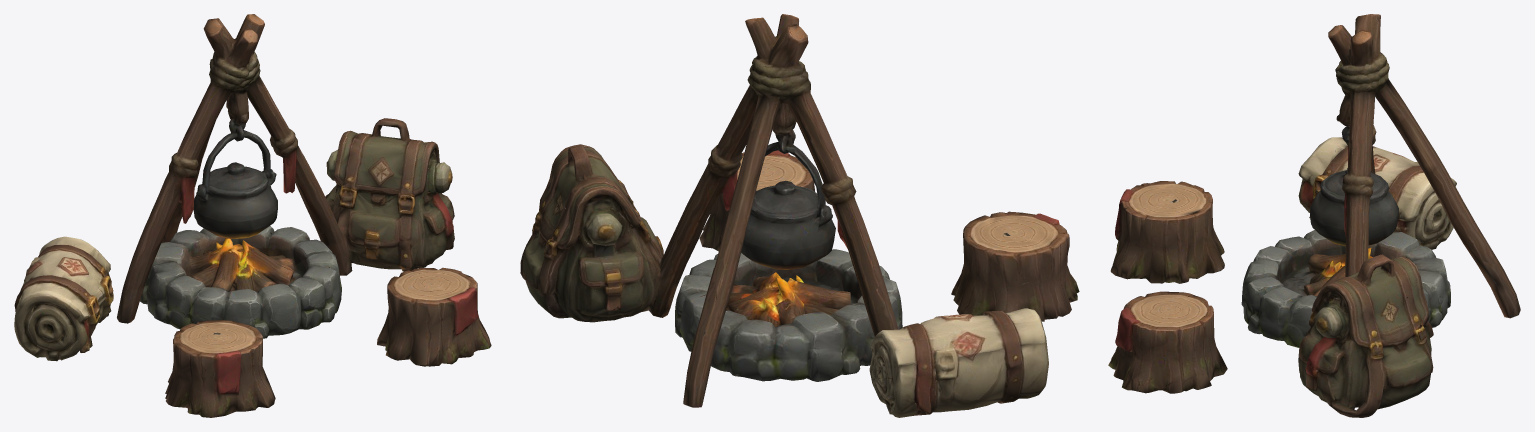
The model's file is campfire.glb.
3 views of the same model, side by side, from view 1: azimuth 30°, elevation 25°; view 2: azimuth 150°, elevation 25°; view 3: azimuth 270°, elevation 25° (orthographic). The views are drawn at different scales.
Bounding box in the file's own units: 1.91 × 1.16 × 1.47.
1 material, 1 textured.
